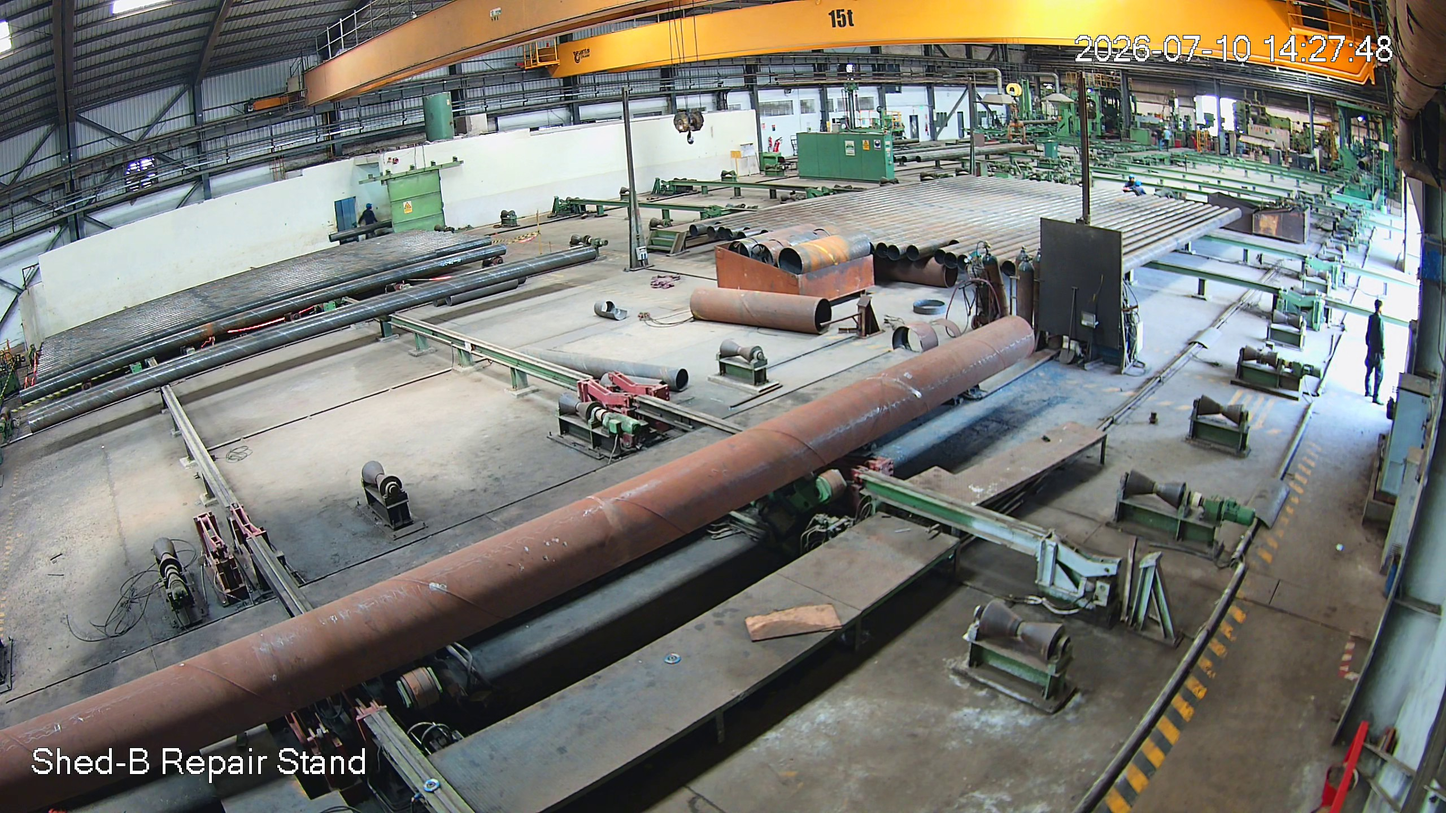Person: (1359, 297, 1389, 408)
